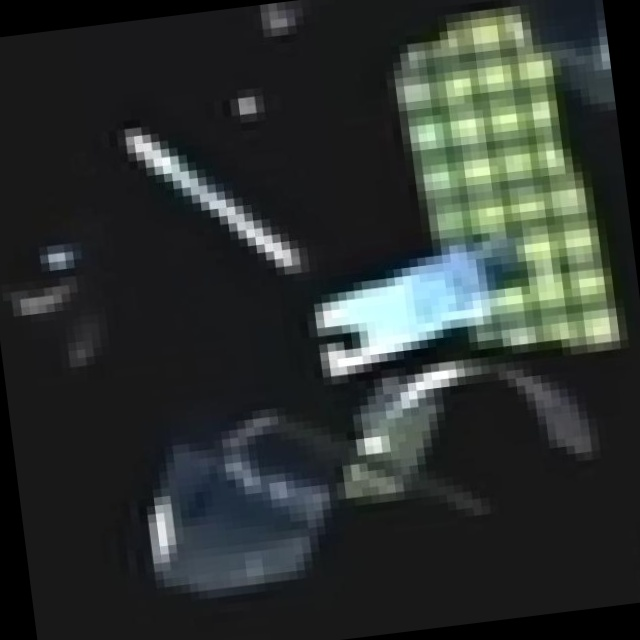large_debris: (362, 0, 609, 372), (321, 355, 620, 569), (88, 66, 313, 289), (131, 392, 341, 611), (273, 253, 540, 368), (0, 207, 116, 370), (221, 0, 323, 50), (579, 0, 618, 126)
